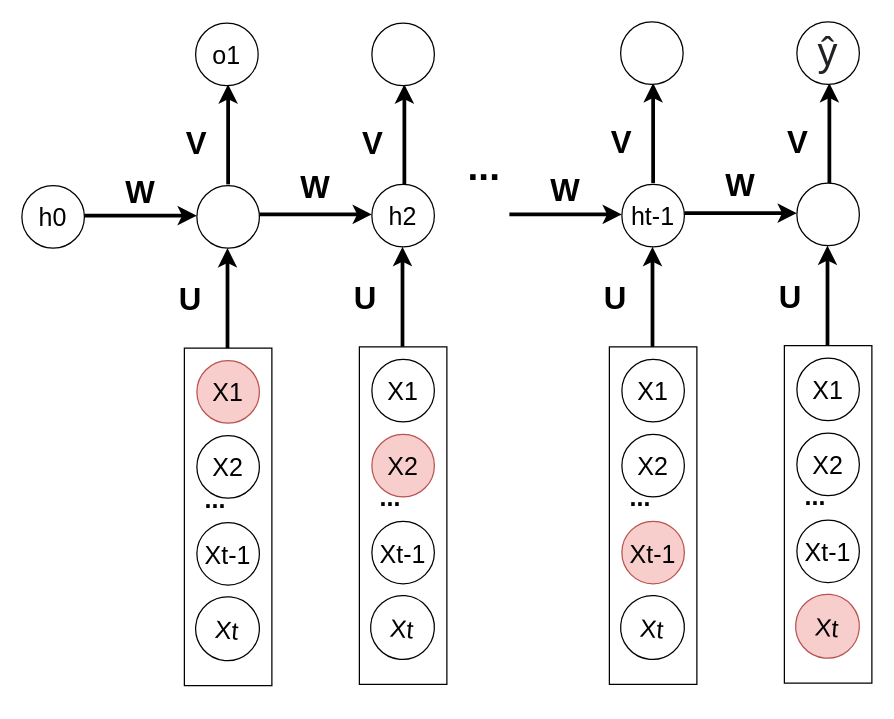
Image size: 894x719. Some labels were removed from this diagram. Each missing label, with the box of its shape:
h1: (196, 184, 259, 248)
ht: (796, 182, 859, 246)
o2: (371, 22, 434, 86)
ot-1: (619, 21, 683, 84)
